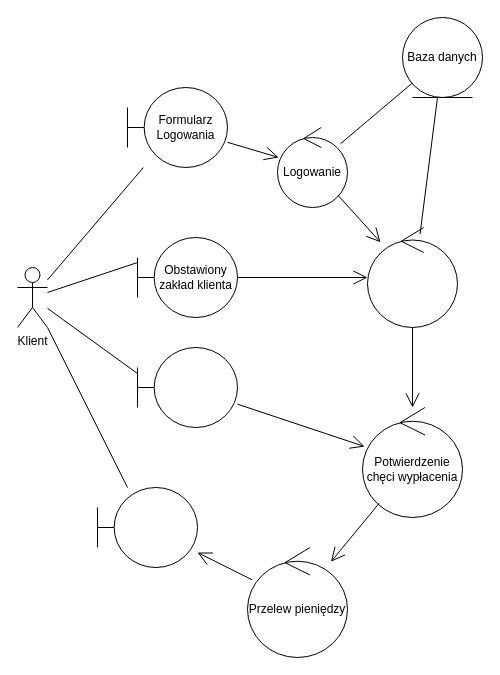
The diagram is 500 pixels wide and 675 high, and some of its shapes have lost their labels. Each missing label, with the box of its shape:
Autoryzacja: (136, 346, 238, 428)
Konto klienta: (96, 486, 198, 568)
Sprawdzenie wygranej: (366, 226, 458, 328)
